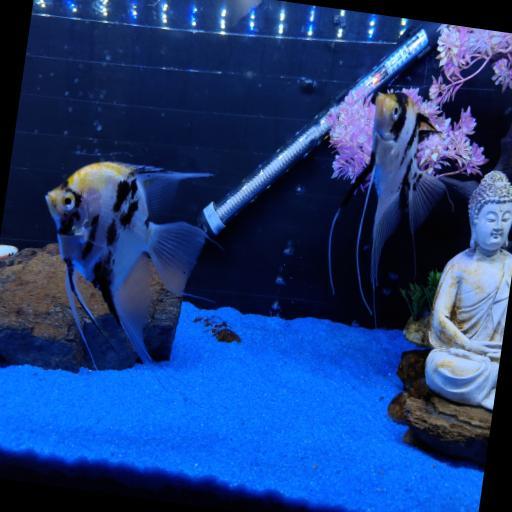Fish: (46, 162, 211, 368), (340, 92, 445, 287)
